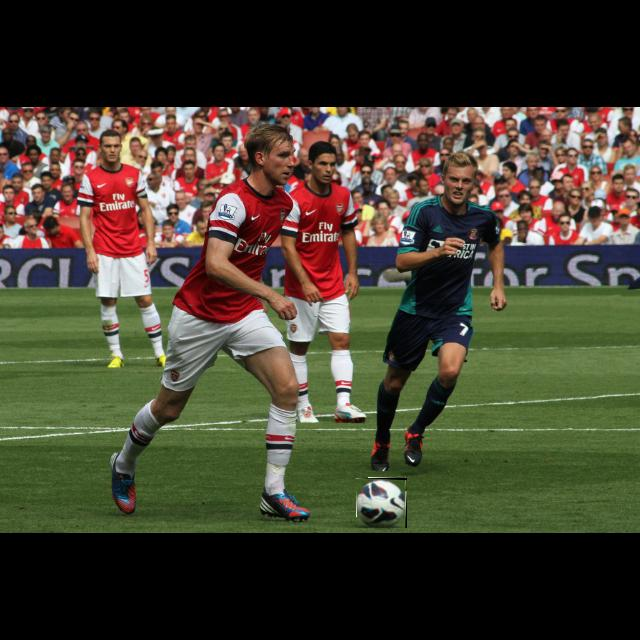Football: (357, 478, 407, 528)
